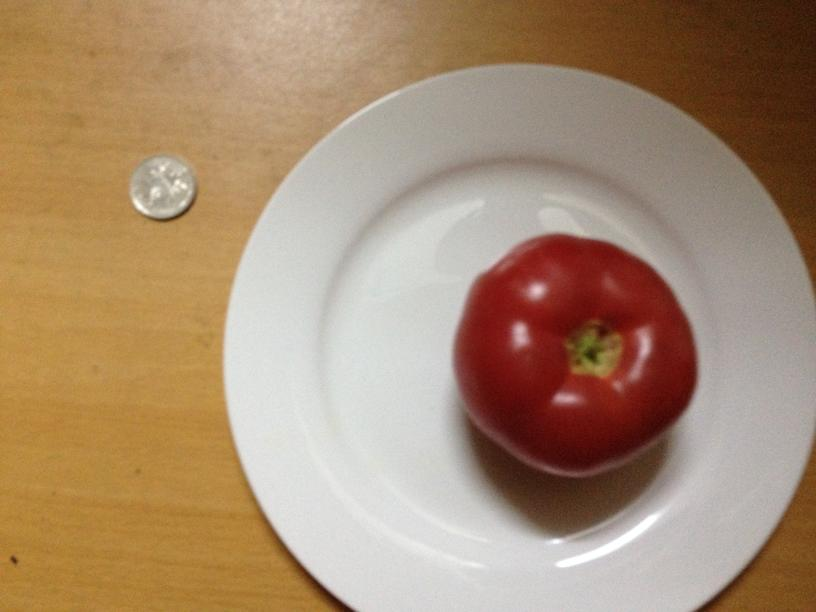coin: (125, 154, 198, 222)
tomato: (445, 229, 698, 477)
